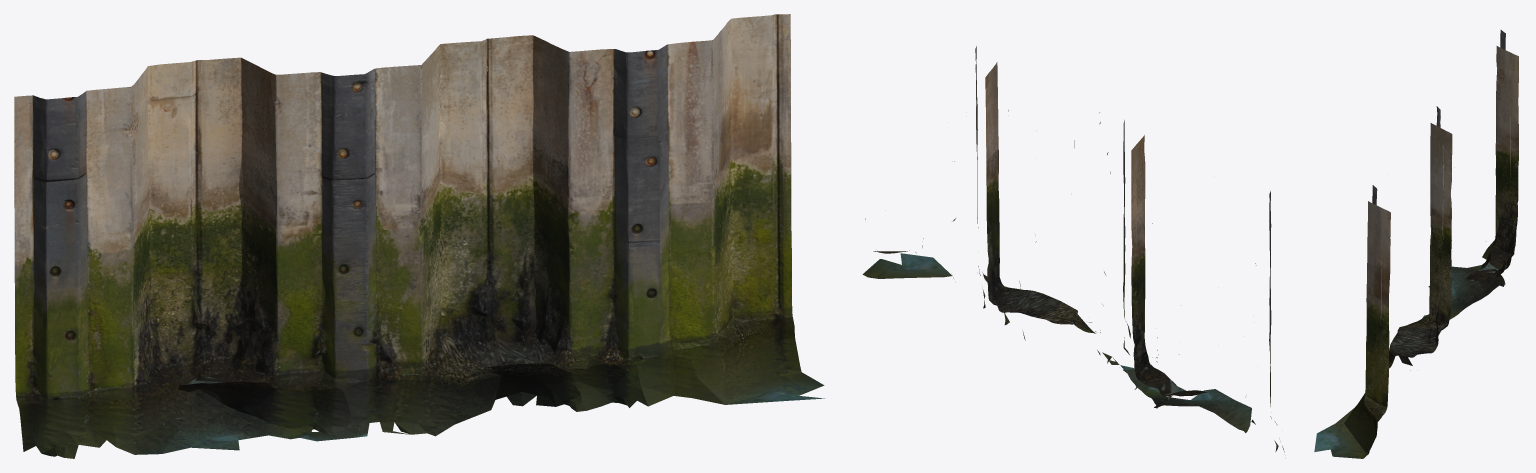
3 views of the same model, side by side, from view 1: azimuth 30°, elevation 25°; view 2: azimuth 150°, elevation 25°; view 3: azimuth 270°, elevation 25° (orthographic). The views are drawn at different scales.
Size of the model in its own units: 4.18 by 2.11 by 1.71.
2 materials, 2 textured.
